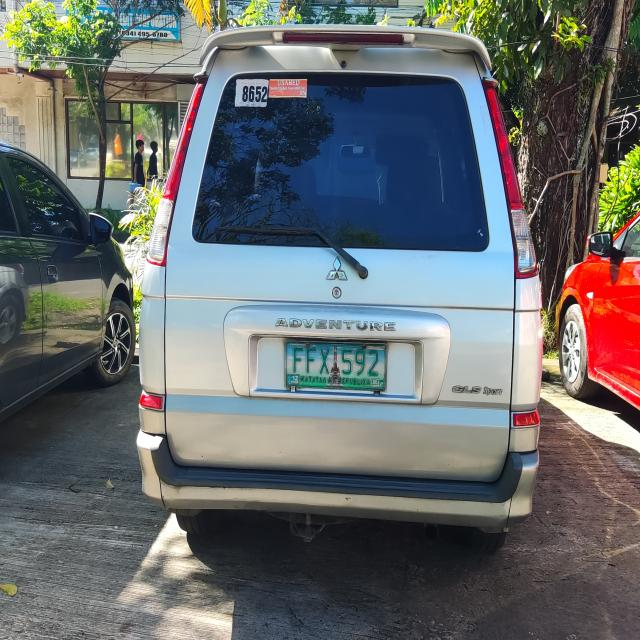plate: (283, 338, 388, 393)
